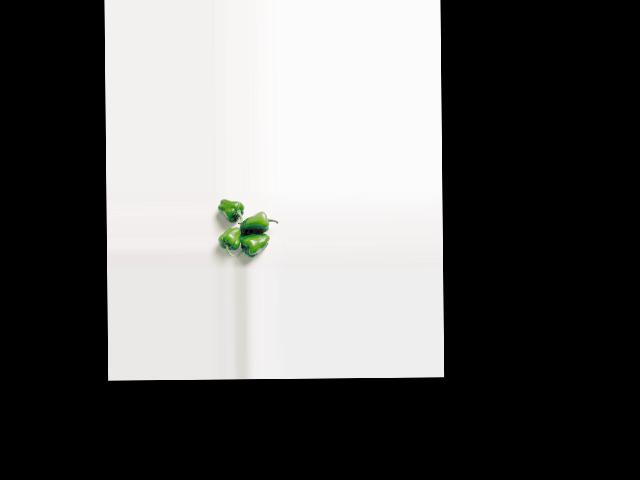bell_pepper: (218, 225, 239, 255)
